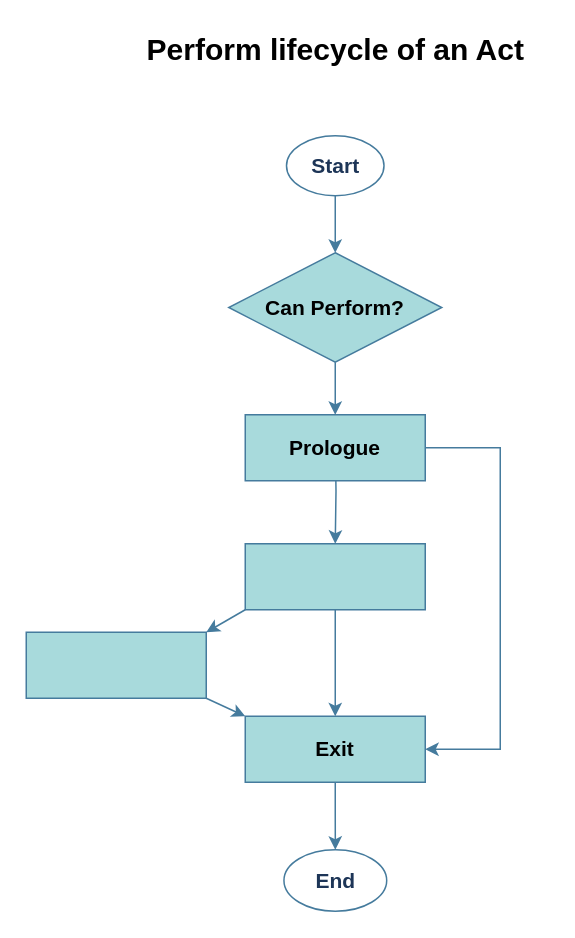
This 575x938 diagram has some shape labels left out. The centre of each missing label's shape, as x and y in pixels:
"Enter" goes at point 334,576.
"Tick" goes at point 115,664.
